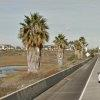Tree: (12, 7, 67, 57)
